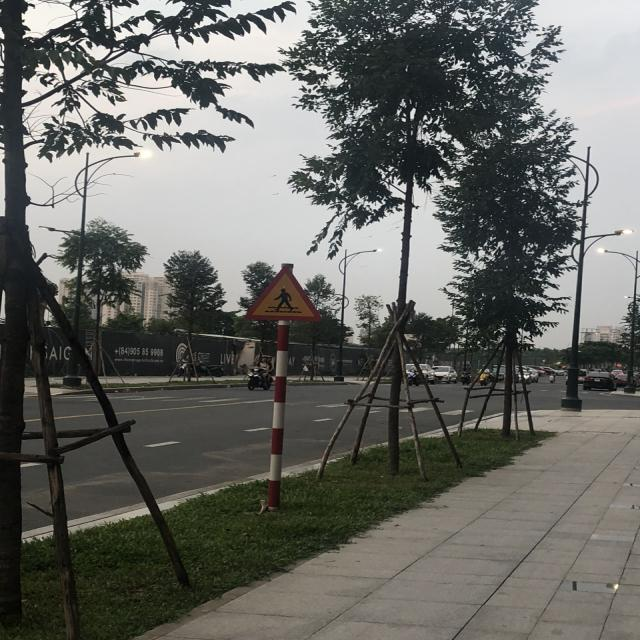Bien bao duong nguoi di bo cat ngang: (237, 261, 327, 325)
